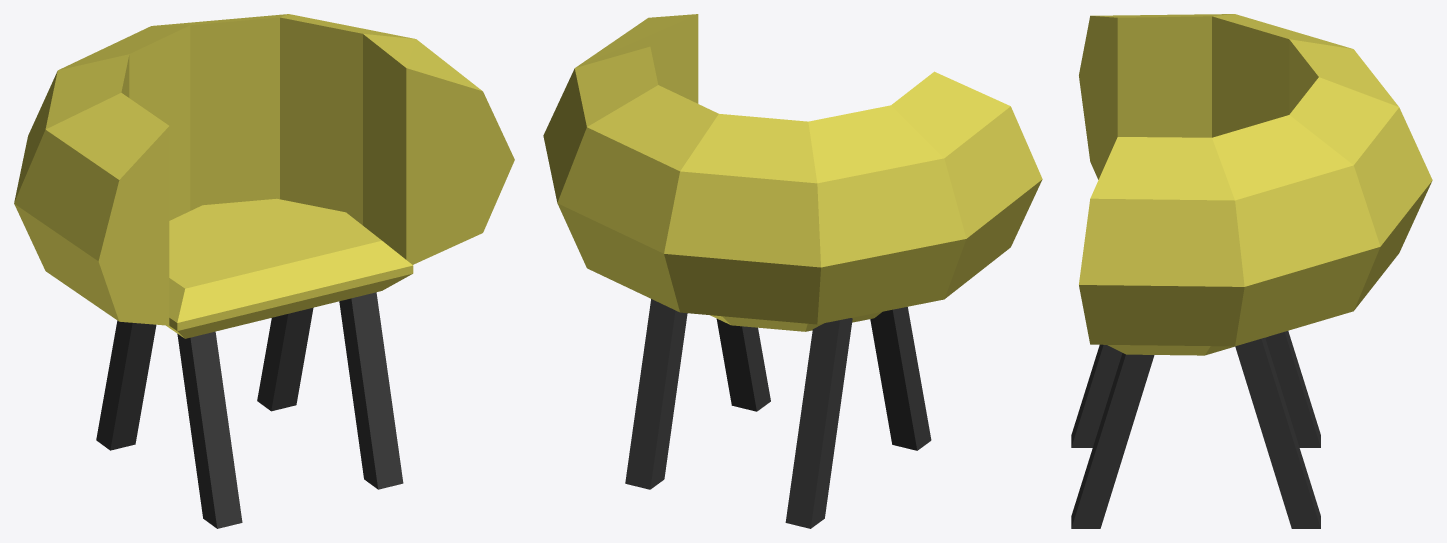
File: chair_1.fbx
The picture shows the model from 3 angles, left to right: view 1: azimuth 30°, elevation 25°; view 2: azimuth 150°, elevation 25°; view 3: azimuth 270°, elevation 25°; orthographic projection. The views are drawn at different scales.
Visible parts, largest first — view 1: chair_1; view 2: chair_1; view 3: chair_1.
Boxes of the visible parts, x1,y1,x2,y2 form: chair_1: (14, 14, 514, 528); chair_1: (543, 14, 1042, 528); chair_1: (1071, 14, 1432, 528).
Bounding box in the file's own units: 84.3 × 74.59 × 60.3.
